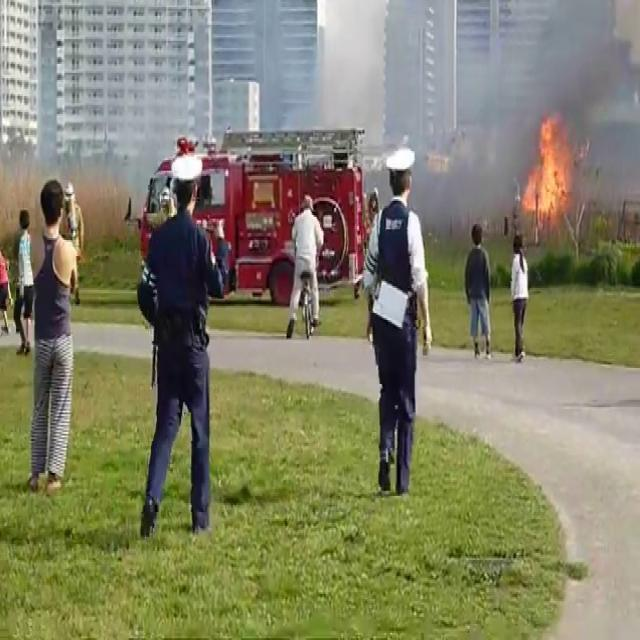Fire: (519, 109, 579, 228)
Smoke: (474, 0, 639, 186)
